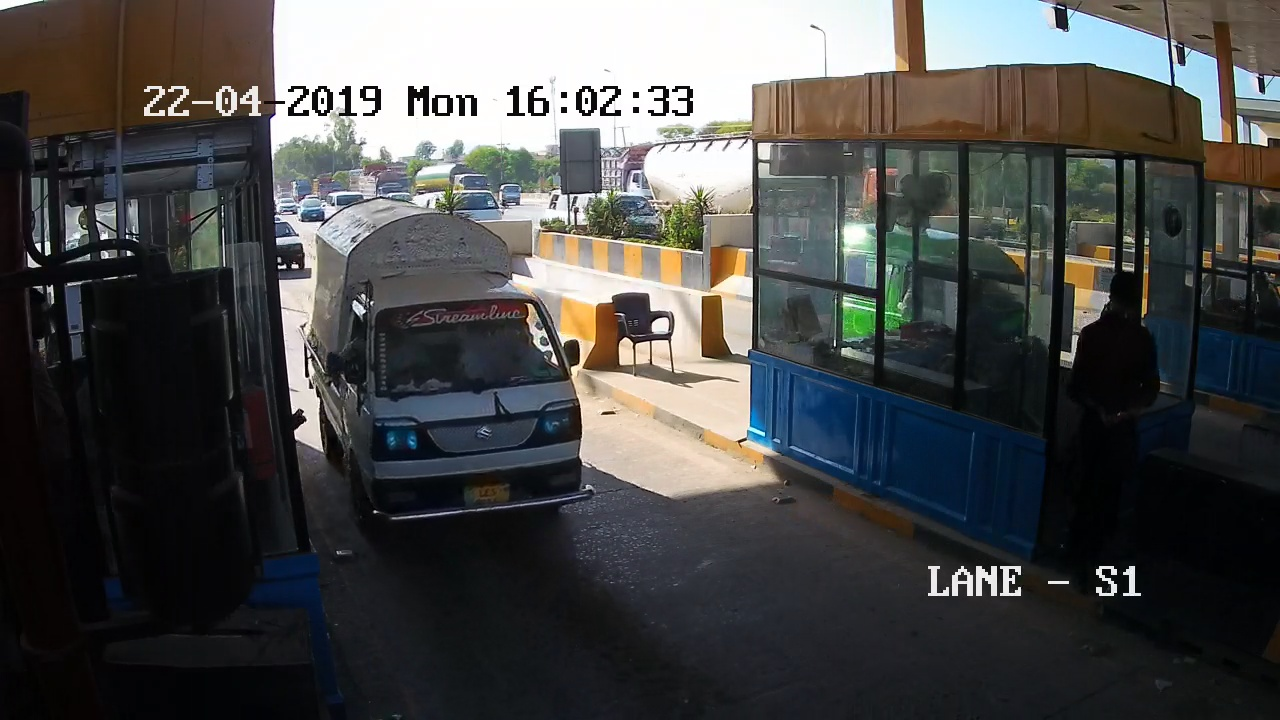Number Plate (Car): (465, 482, 511, 506)
